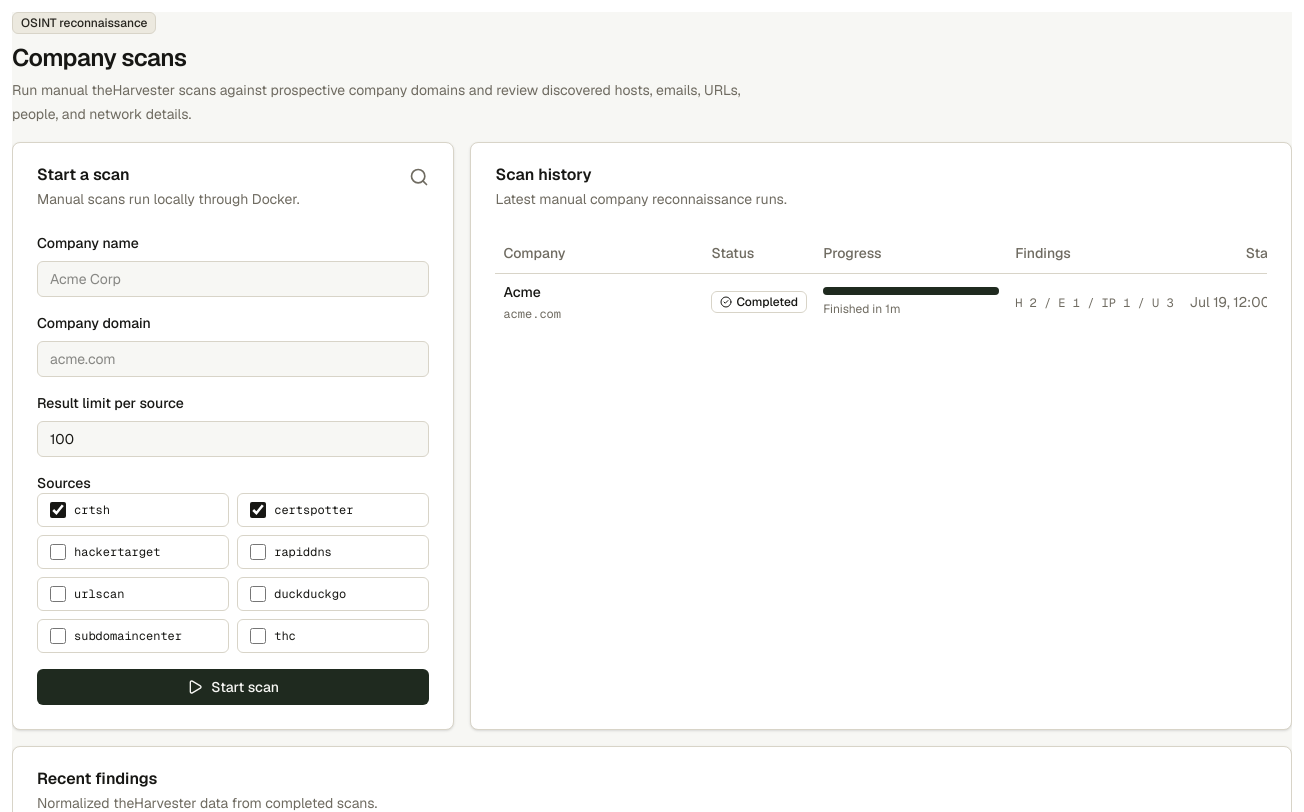
it: OsintScanPanel › queues a scan from the form
Type "Globex" into the field labelled "Company name". click: (233, 279)
box: [37,261,429,297]
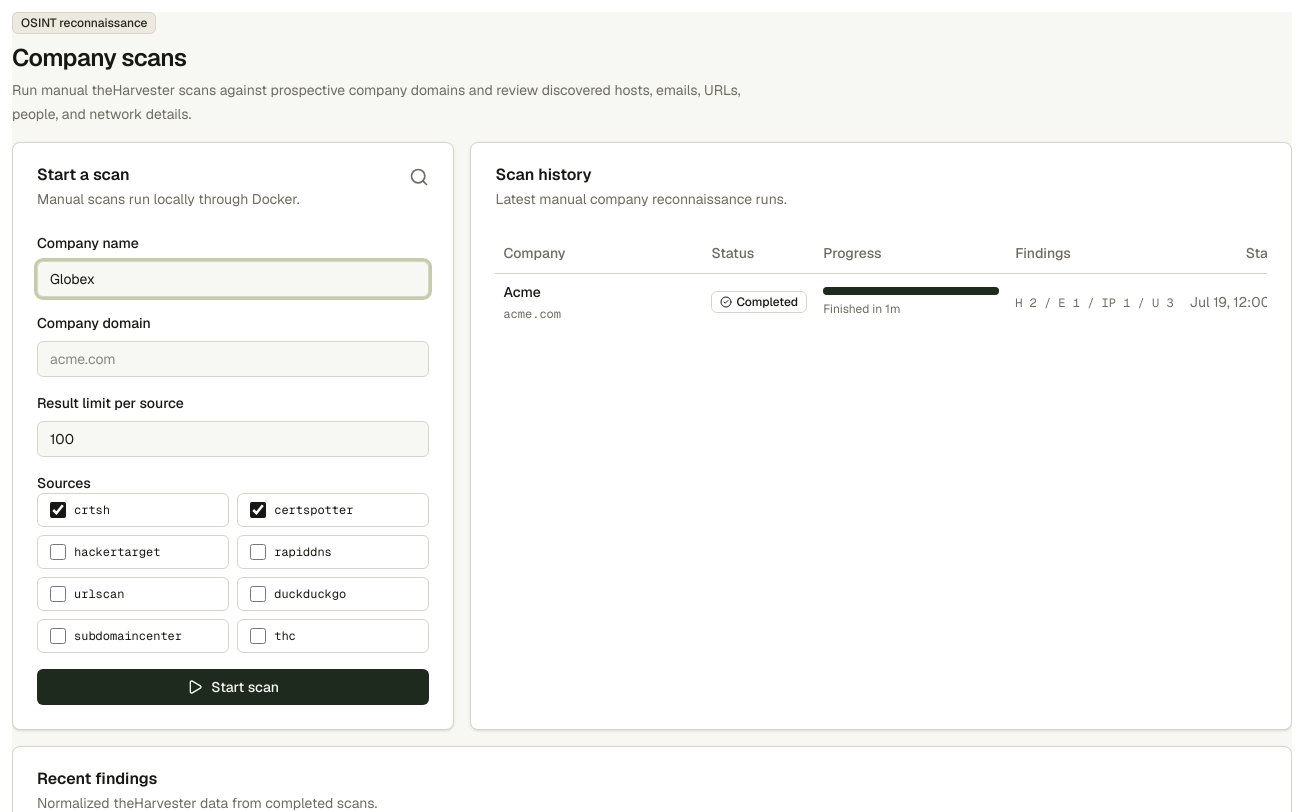
Type "globex.com" into the field labelled "Company domain". click: (233, 359)
box: [37,341,429,377]
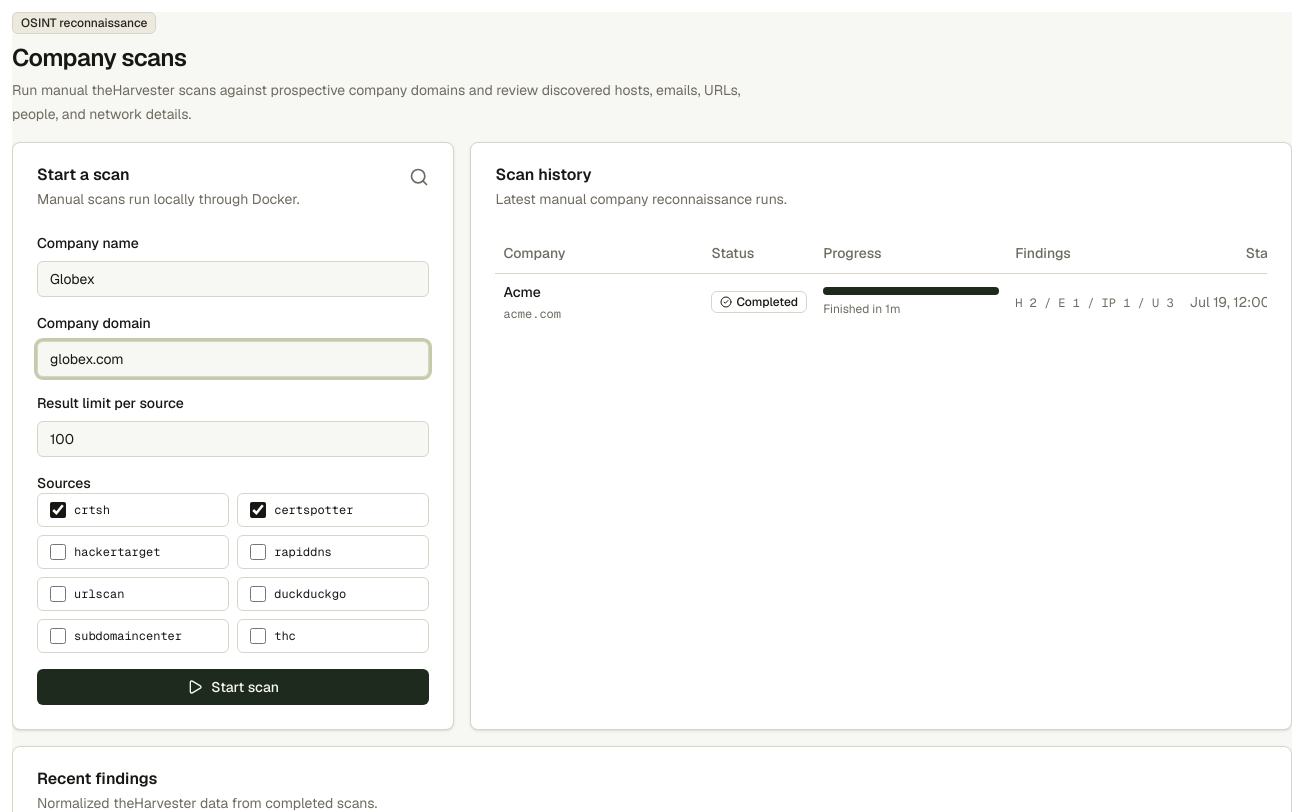
Click the button "Start scan". click: (233, 687)
box: [37,669,429,705]
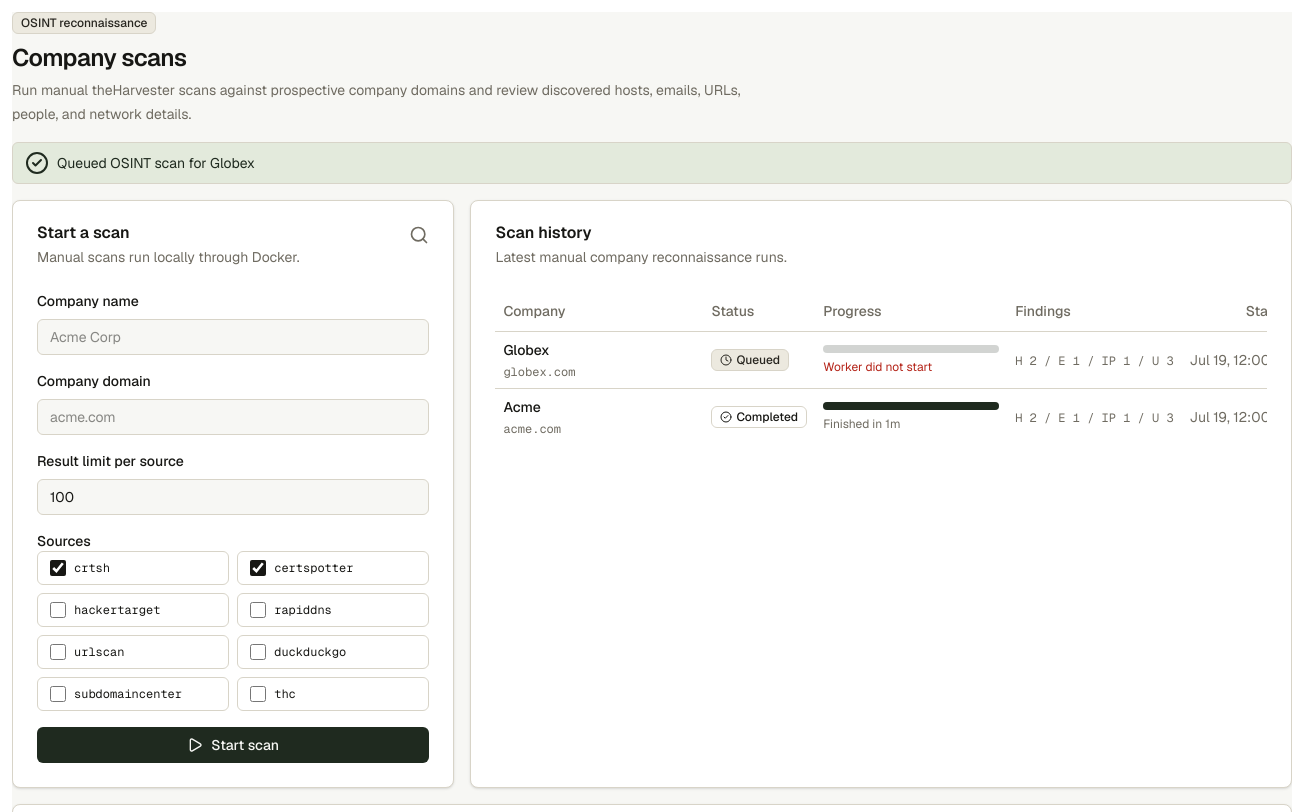
Result: the text "Queued OSINT scan for Globex" is shown at [12,142,1292,184]
